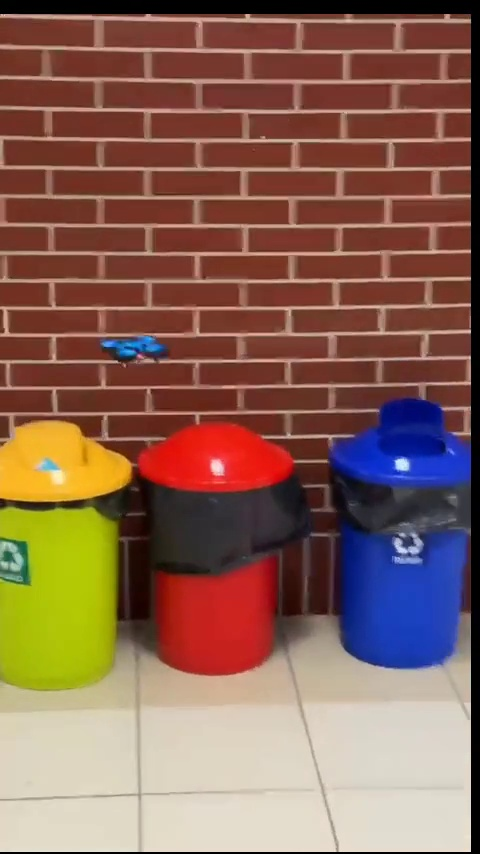drone: (99, 334, 175, 368)
